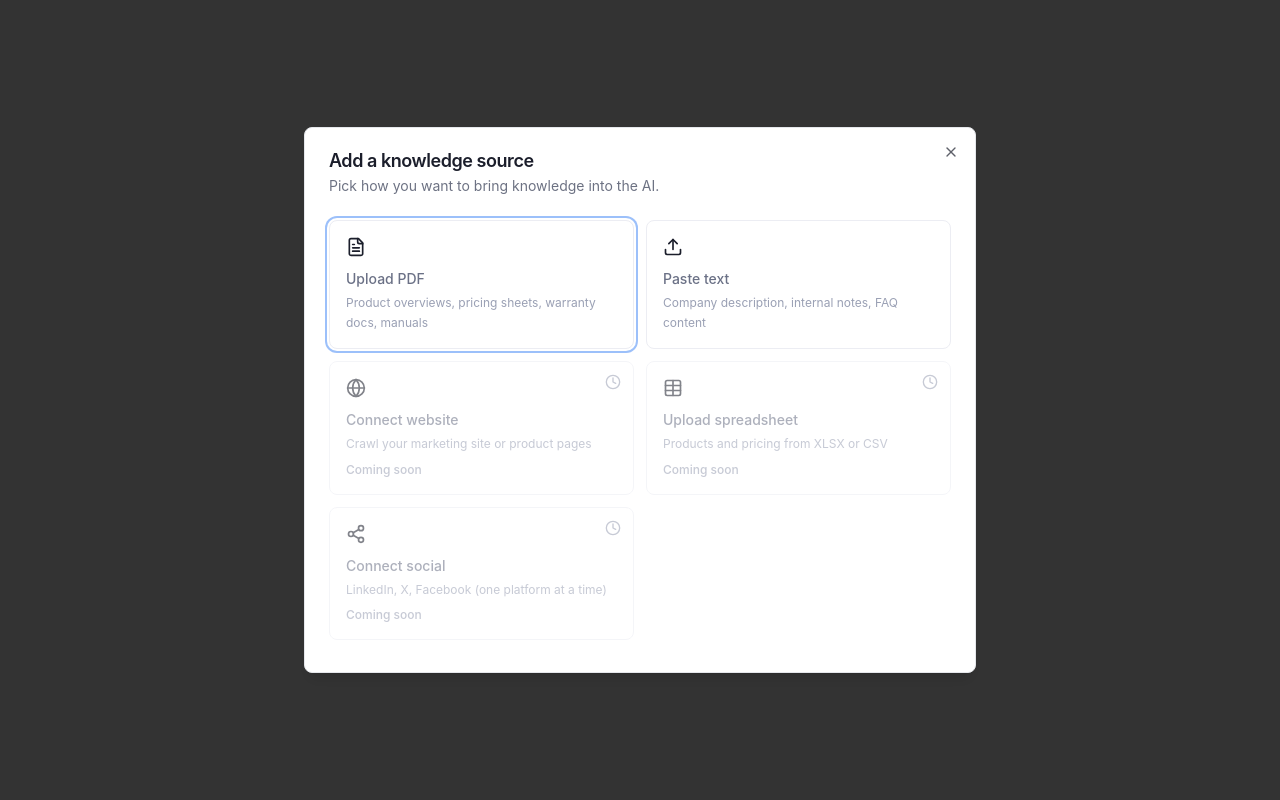
it: AddSourceDialog — KAN-829 sub-cohort 4 › Test 7 — Paste text > 50K chars → maxLength caps input + cap message available in spec
This screenshot has width=1280, height=800.
Step 1. Click the button "Paste text" → x=696, y=278, box [646,220,951,349]
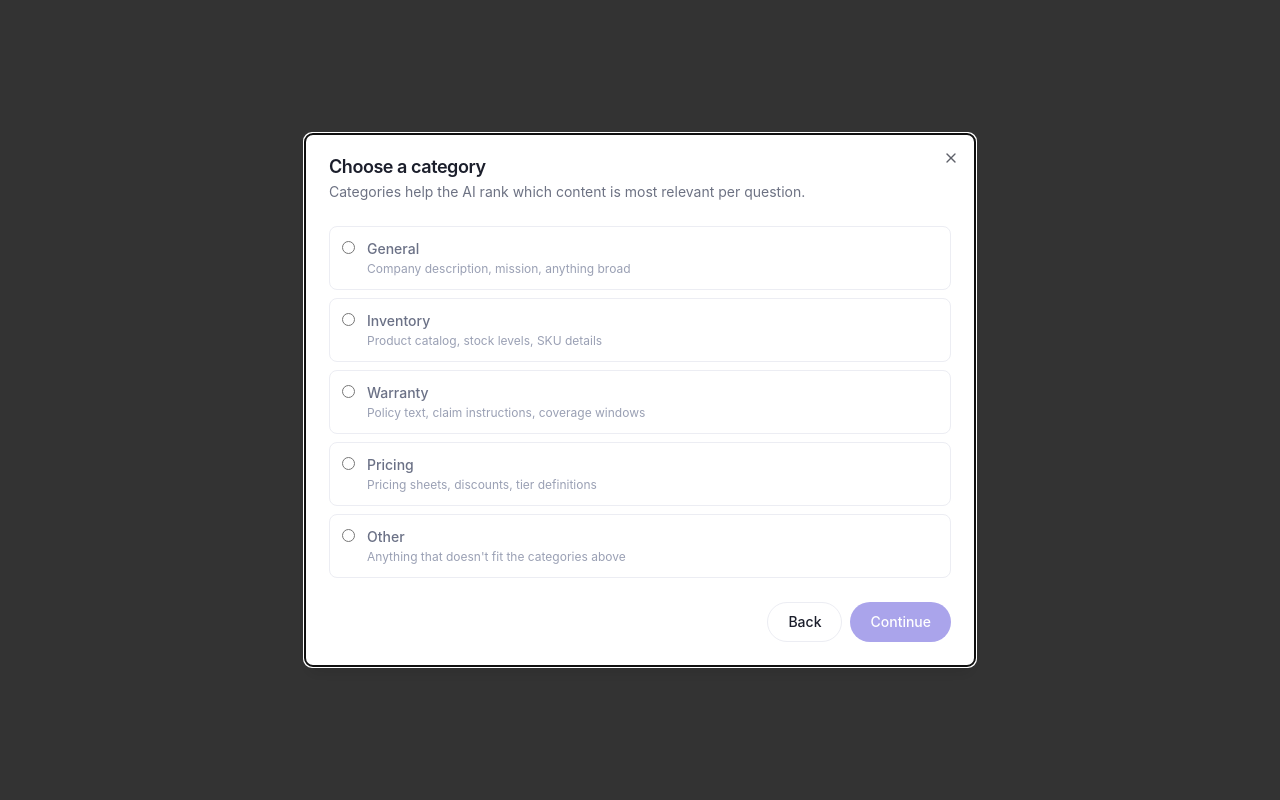
Step 2. Click the radio button labelled "General Company description, mission, anything broad" → x=348, y=248, box [342,241,355,254]
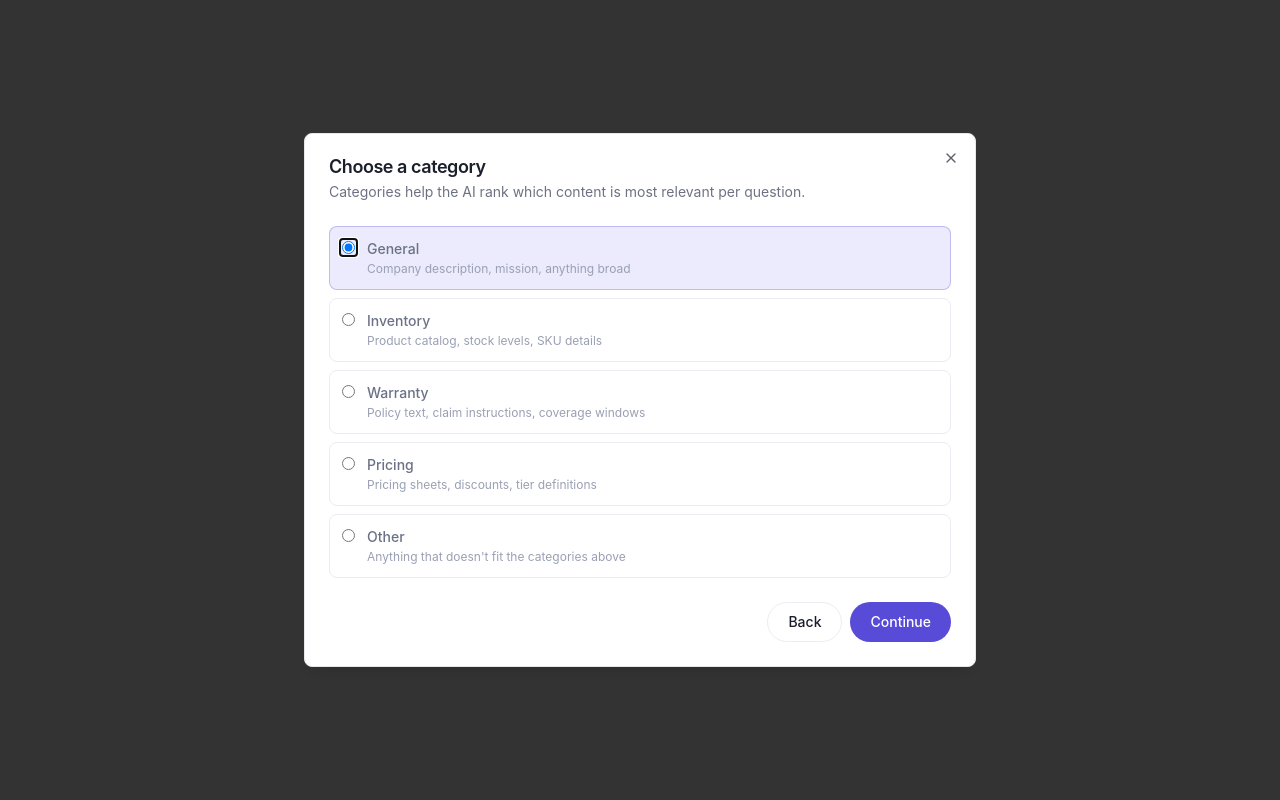
Step 3. Click the button with aria-label "Confirm category and continue" → x=901, y=622, box [850,602,951,642]
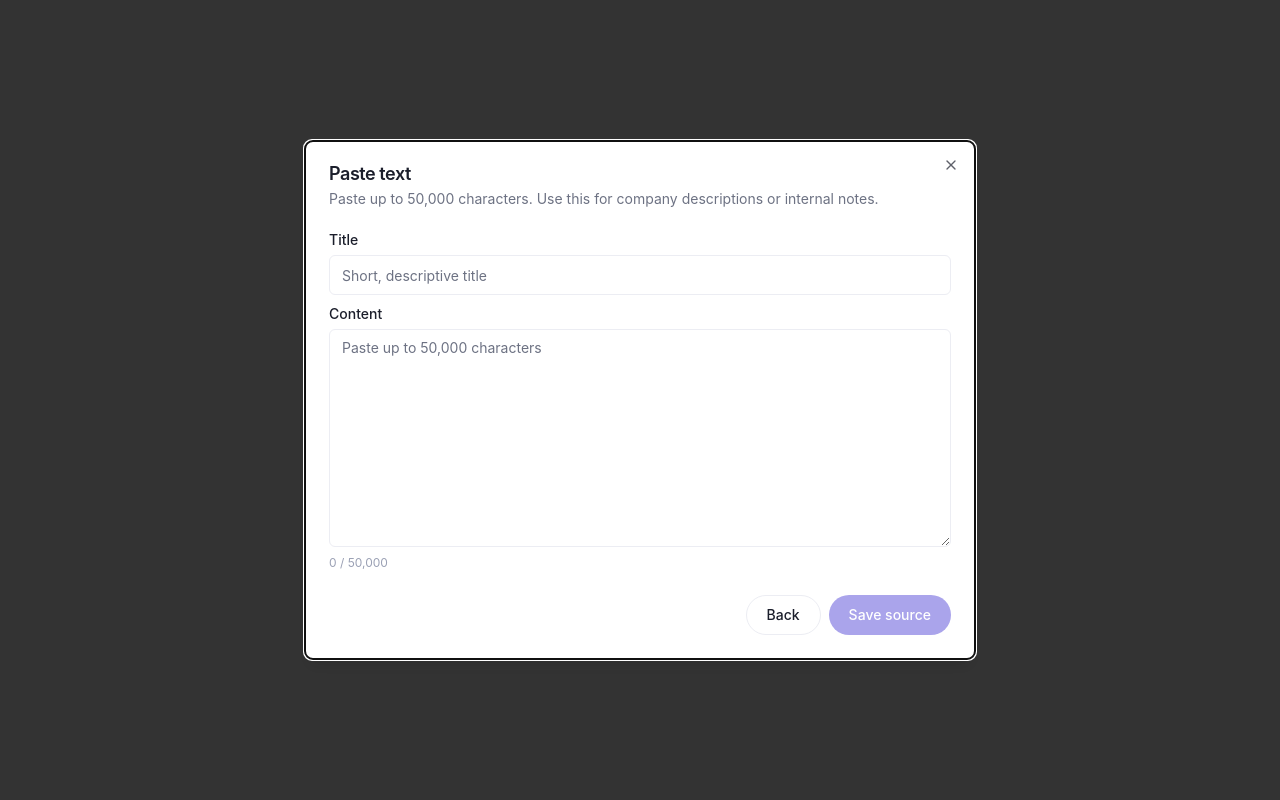
Expected: the text "0 / 50,000" is shown, [329,555,388,570]
